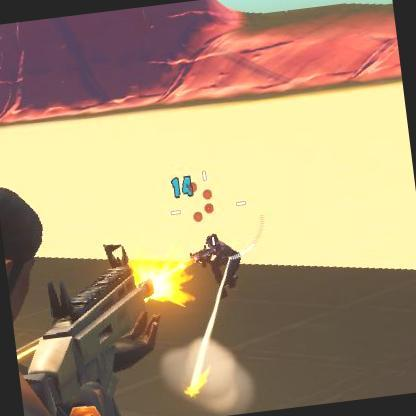person: (198, 235, 246, 296)
